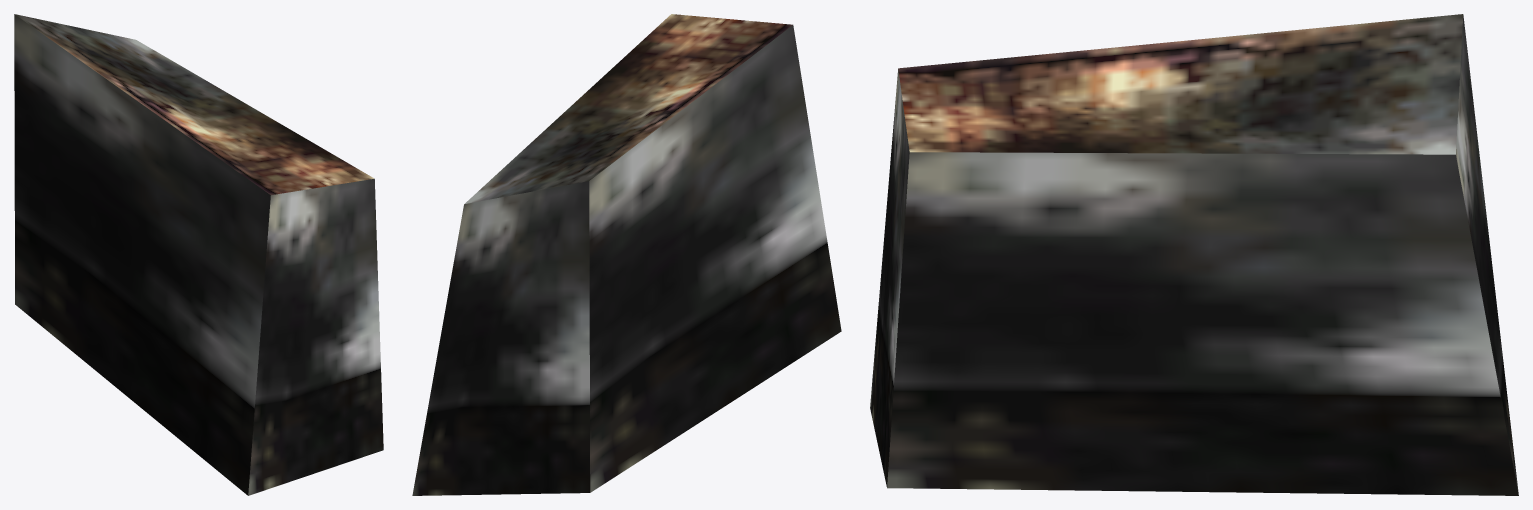
Rendered from USA - Base Infrastructure - Power Plant - Damage State 04 - ABPWRPLANT_d04.glb.
3 views of the same model, side by side, from view 1: azimuth 30°, elevation 25°; view 2: azimuth 150°, elevation 25°; view 3: azimuth 270°, elevation 25° (orthographic). The views are drawn at different scales.
Parts seen in each view (by area): view 1: ABPWRPLANT_D04; view 2: ABPWRPLANT_D04; view 3: ABPWRPLANT_D04.
Part boxes in pixels (box(x1,y1,x2,y2)): ABPWRPLANT_D04: box(14, 14, 383, 495); ABPWRPLANT_D04: box(412, 14, 841, 495); ABPWRPLANT_D04: box(870, 14, 1518, 495).
Size of the model in its own units: 2.21 by 4.62 by 6.9.
1 material, 1 textured.
